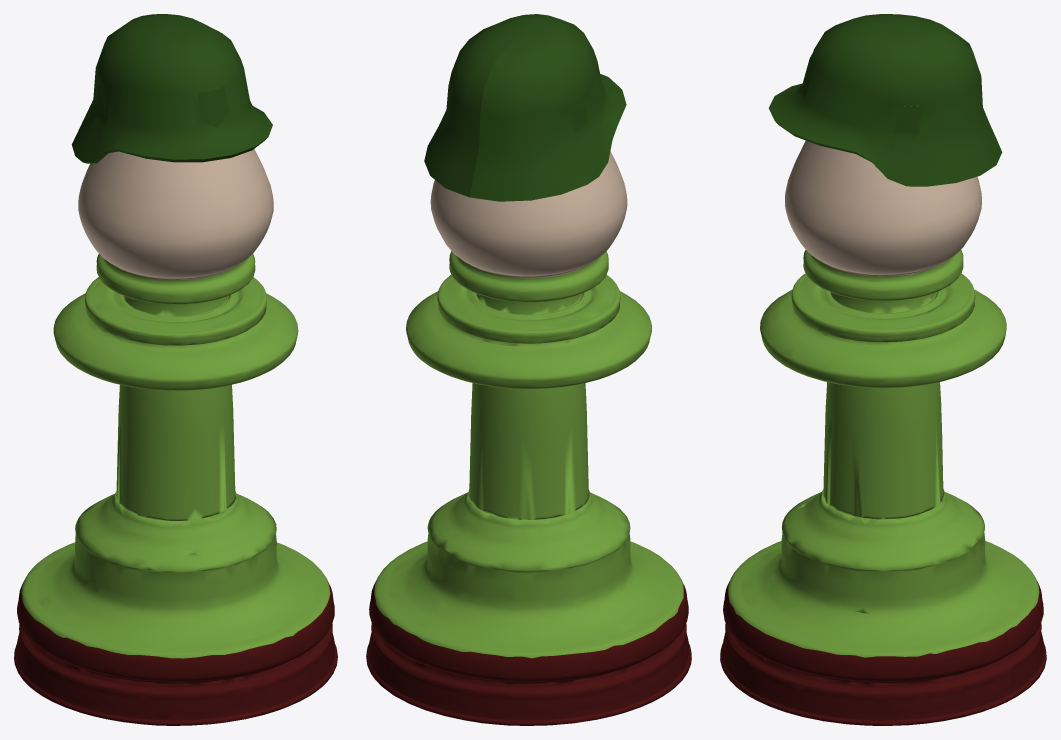
The model's file is Bispo Branco.FBX.
3 views of the same model, side by side, from view 1: azimuth 30°, elevation 25°; view 2: azimuth 150°, elevation 25°; view 3: azimuth 270°, elevation 25° (orthographic).
Visible parts, largest first — view 1: Bishop001, 4cd75640.o001, 4930d698.o001; view 2: Bishop001, 4cd75640.o001; view 3: Bishop001, 4cd75640.o001, 4930d698.o001.
Boxes of the visible parts, <box> form: Bishop001: <box>14,149,337,725</box>; 4cd75640.o001: <box>71,14,272,163</box>; 4930d698.o001: <box>96,84,227,127</box>; Bishop001: <box>366,151,691,725</box>; 4cd75640.o001: <box>424,14,626,201</box>; Bishop001: <box>720,106,1046,725</box>; 4cd75640.o001: <box>769,14,1002,186</box>; 4930d698.o001: <box>800,59,921,143</box>.
Size of the model in its own units: 109 by 234 by 109.
